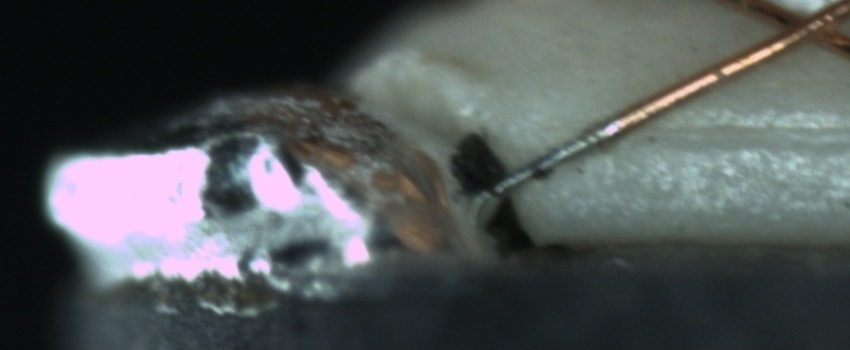CL: (753, 0, 847, 56)
DL: (623, 99, 848, 164)
TS: (485, 121, 621, 202)
TTCW: (476, 92, 662, 205)
